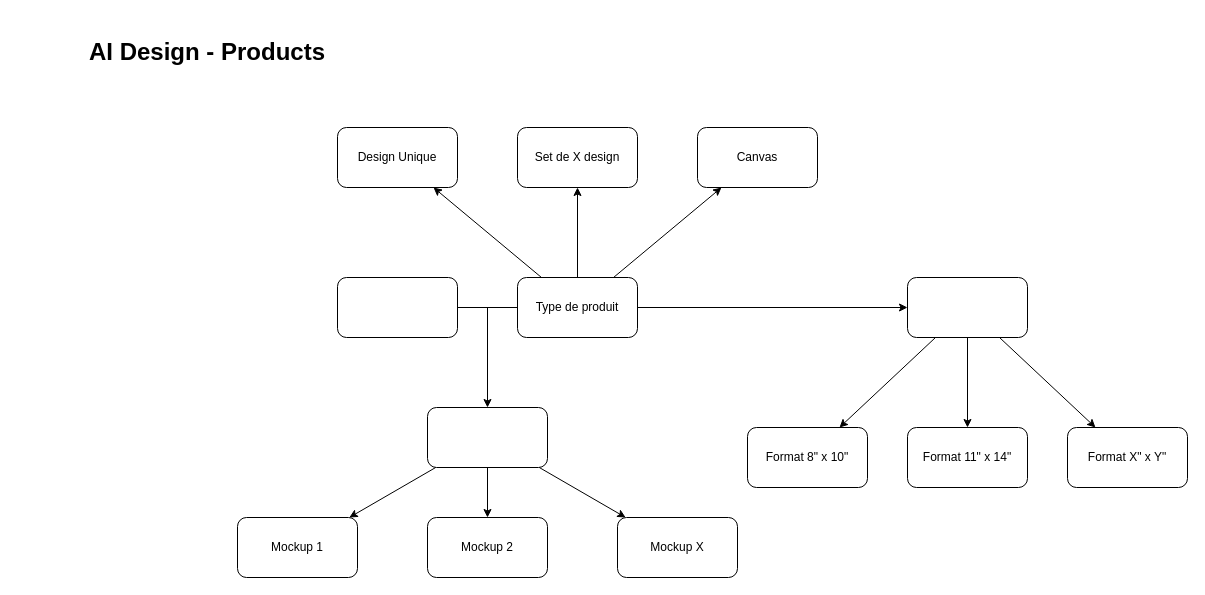
The diagram is 1205 pixels wide and 595 high, and some of its shapes have lost their labels. Each missing label, with the centre of its shape:
AI Design: (x=967, y=307)
Catégorie: (x=397, y=307)
Template (ensemble de mockups): (x=487, y=437)
